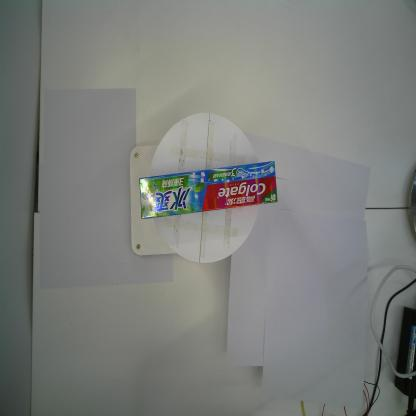Personal Hygiene: (140, 160, 277, 220)
